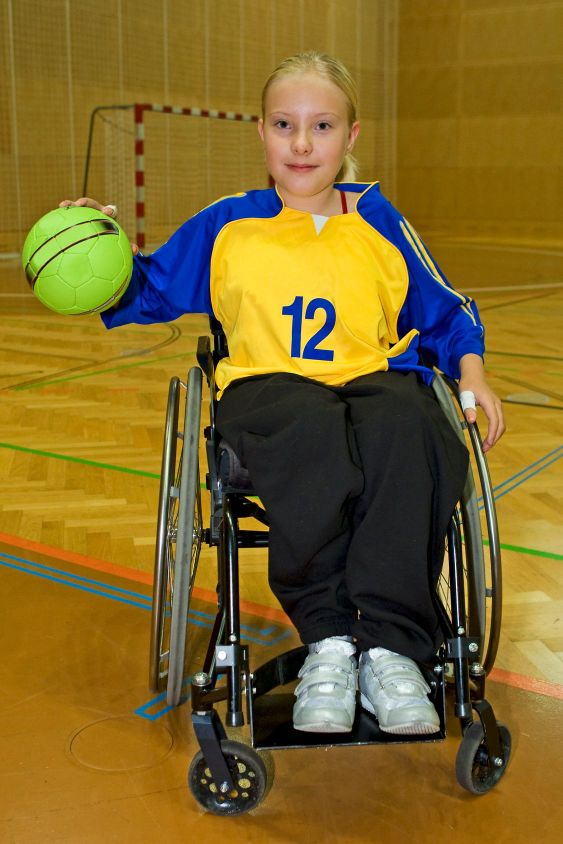wheelchair: (23, 50, 512, 816)
